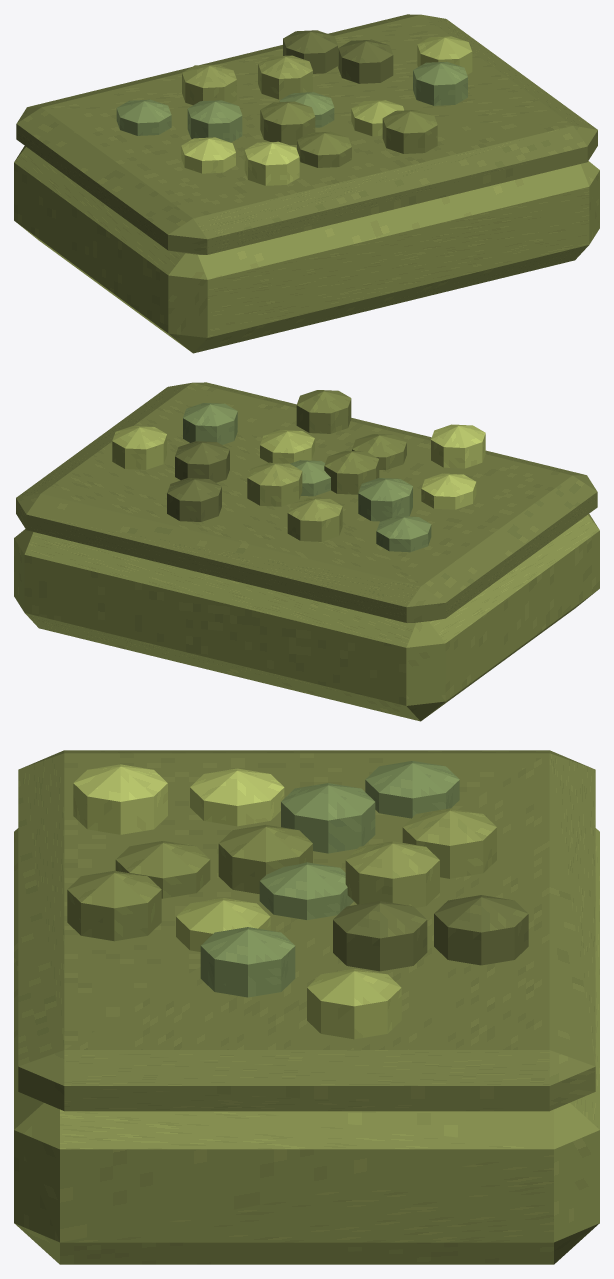
File: cheesy_spinach_casserole.glb
The picture shows the model from 3 angles, top to bottom: view 1: azimuth 30°, elevation 25°; view 2: azimuth 150°, elevation 25°; view 3: azimuth 270°, elevation 25°; orthographic projection. The views are drawn at different scales.
Parts seen in each view (by area): view 1: block_browned baked crust, block_cut casserole portion, block_pieces in cooked dish (×15); view 2: block_browned baked crust, block_cut casserole portion, block_pieces in cooked dish (×15); view 3: block_browned baked crust, block_cut casserole portion, block_pieces in cooked dish (×15).
Boxes of the visible parts, <box> form: block_browned baked crust: <box>16,14,597,254</box>; block_cut casserole portion: <box>14,146,599,353</box>; block_pieces in cooked dish (×15): <box>116,30,472,185</box>; block_browned baked crust: <box>16,382,597,622</box>; block_cut casserole portion: <box>14,514,599,721</box>; block_pieces in cooked dish (×15): <box>112,390,485,552</box>; block_browned baked crust: <box>18,750,595,1111</box>; block_cut casserole portion: <box>14,828,599,1264</box>; block_pieces in cooked dish (×15): <box>67,761,528,1039</box>.
Bounding box in the file's own units: 0.1203 × 0.046 × 0.0884.
1 material, 1 textured.
